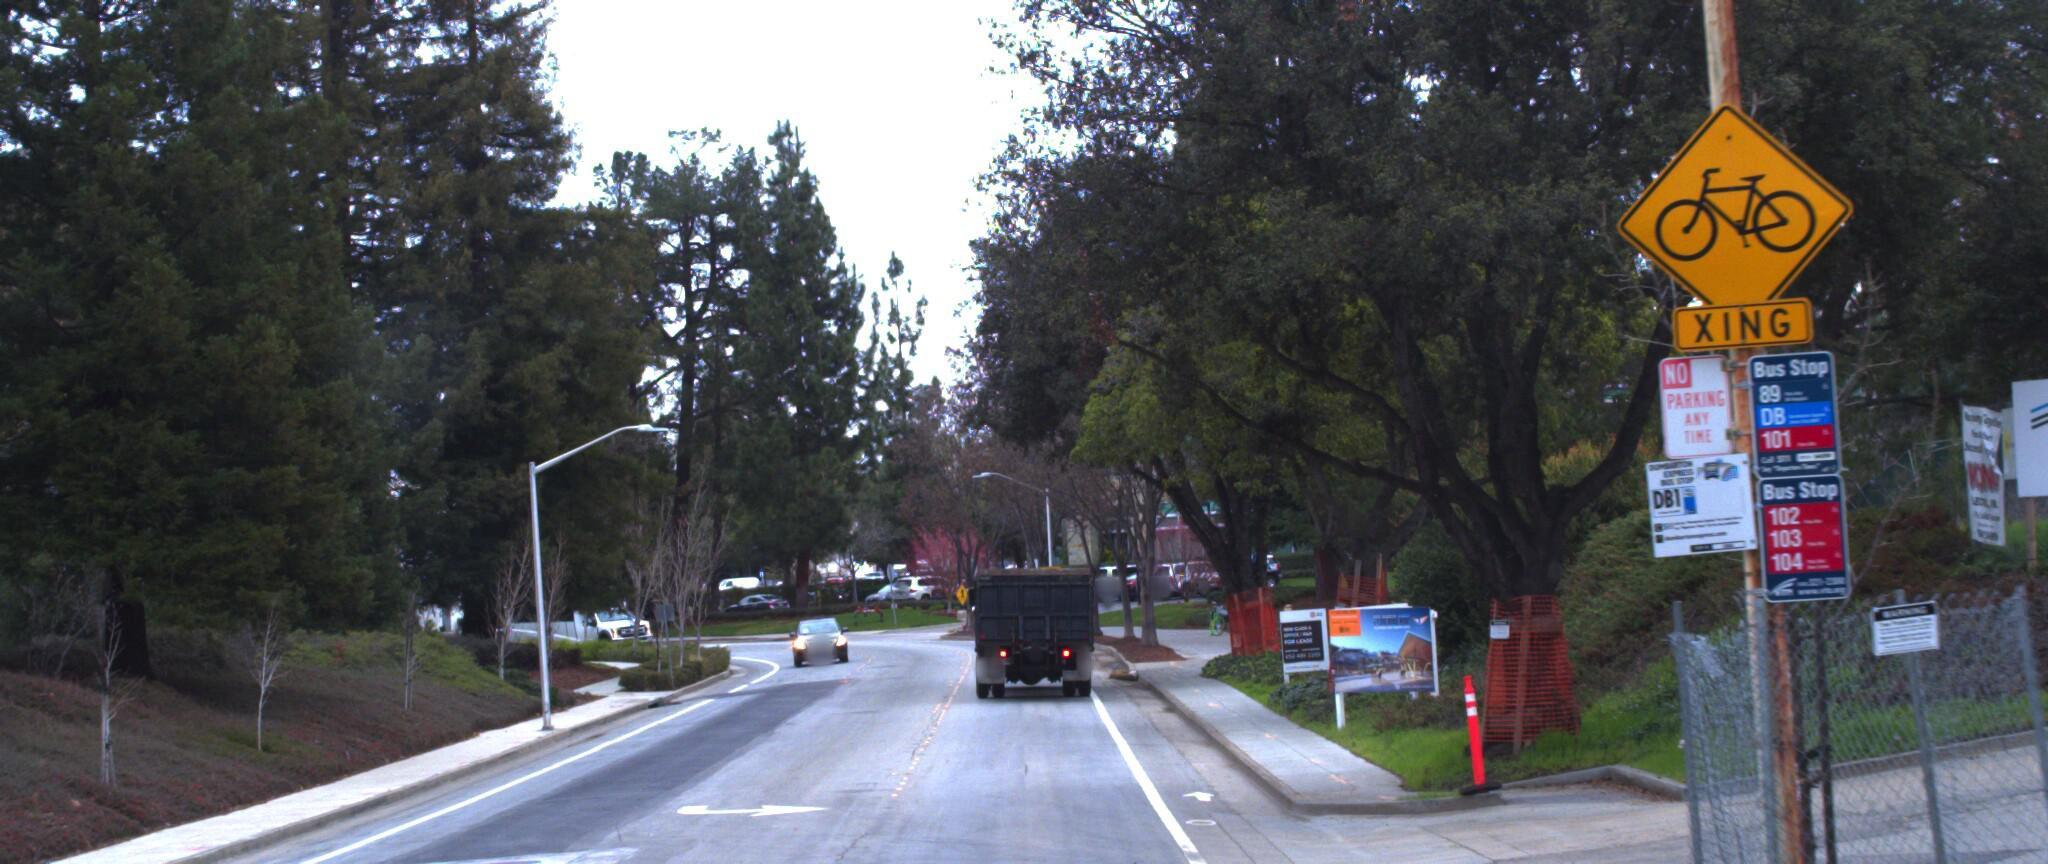truck: (963, 532, 1108, 705)
